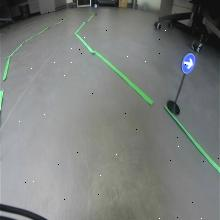right: (181, 52, 195, 74)
